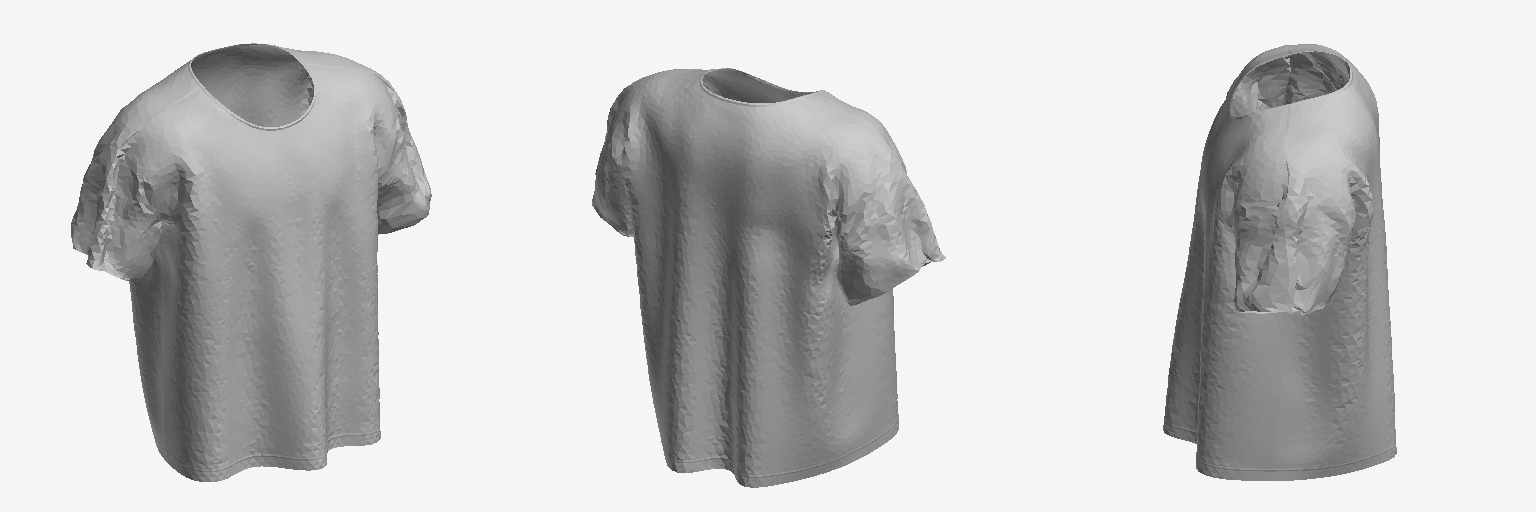
Rendered from Large_average.obj.
3 renders of one model, left to right at view 1: azimuth 30°, elevation 25°; view 2: azimuth 150°, elevation 25°; view 3: azimuth 270°, elevation 25°, orthographic.
Visible parts, largest first — view 1: 短袖.002; view 2: 短袖.002; view 3: 短袖.002.
Boxes of the visible parts, x1,y1,x2,y2 form: 短袖.002: [71, 43, 431, 481]; 短袖.002: [592, 68, 945, 487]; 短袖.002: [1163, 44, 1396, 480].
Size of the model in its own units: 0.65 by 0.6646 by 0.3849.